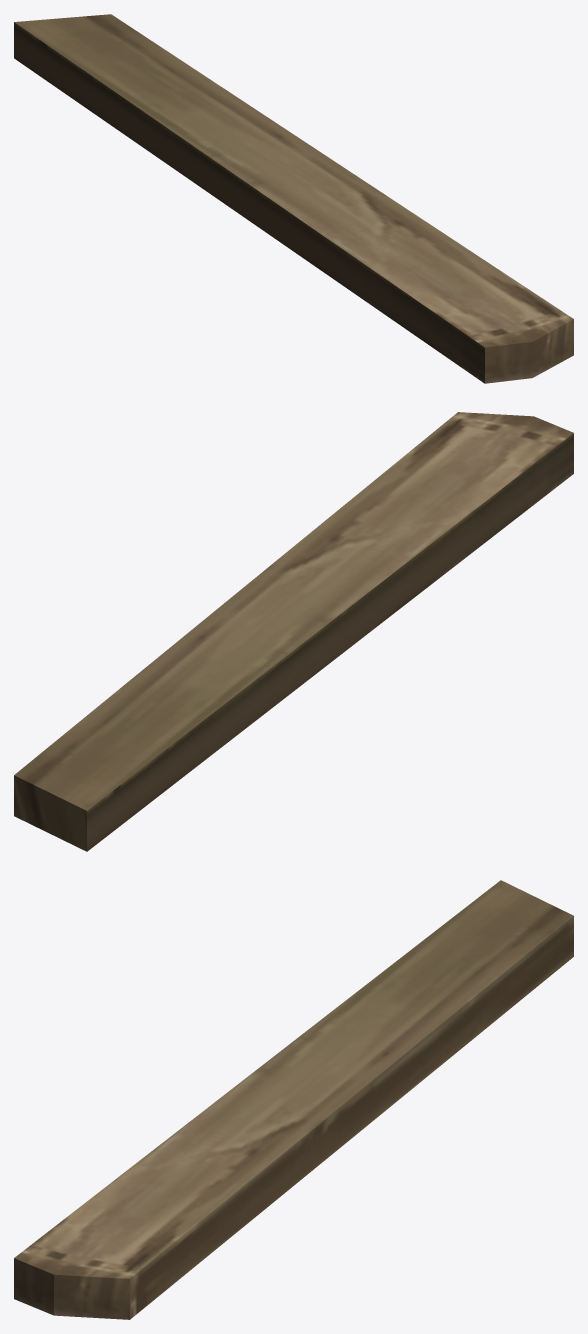
Rendered from muban_04.FBX.
3 renders of one model, top to bottom at view 1: azimuth 30°, elevation 25°; view 2: azimuth 150°, elevation 25°; view 3: azimuth 330°, elevation 25°, orthographic. The views are drawn at different scales.
Visible parts, largest first — view 1: Object006; view 2: Object006; view 3: Object006.
Part boxes in pixels (<box>): Object006: <box>14,14,573,383</box>; Object006: <box>14,412,573,851</box>; Object006: <box>14,880,573,1319</box>.
Size of the model in its own units: 52.6 by 15.76 by 360.
